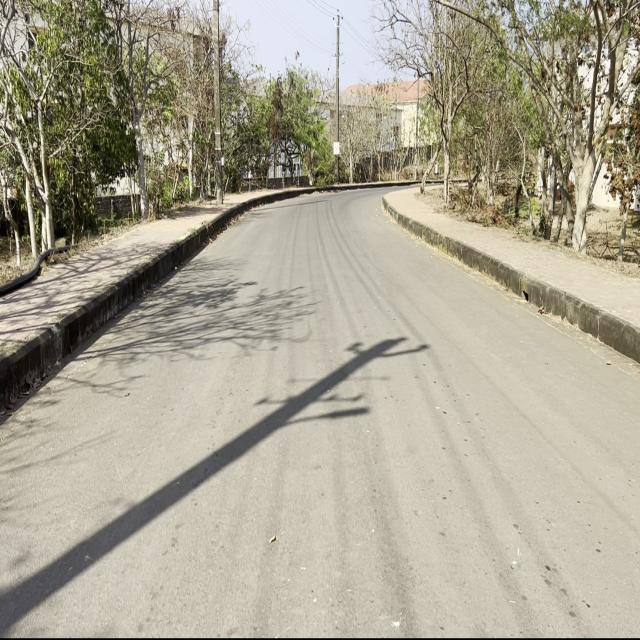Road: (5, 191, 636, 631)
